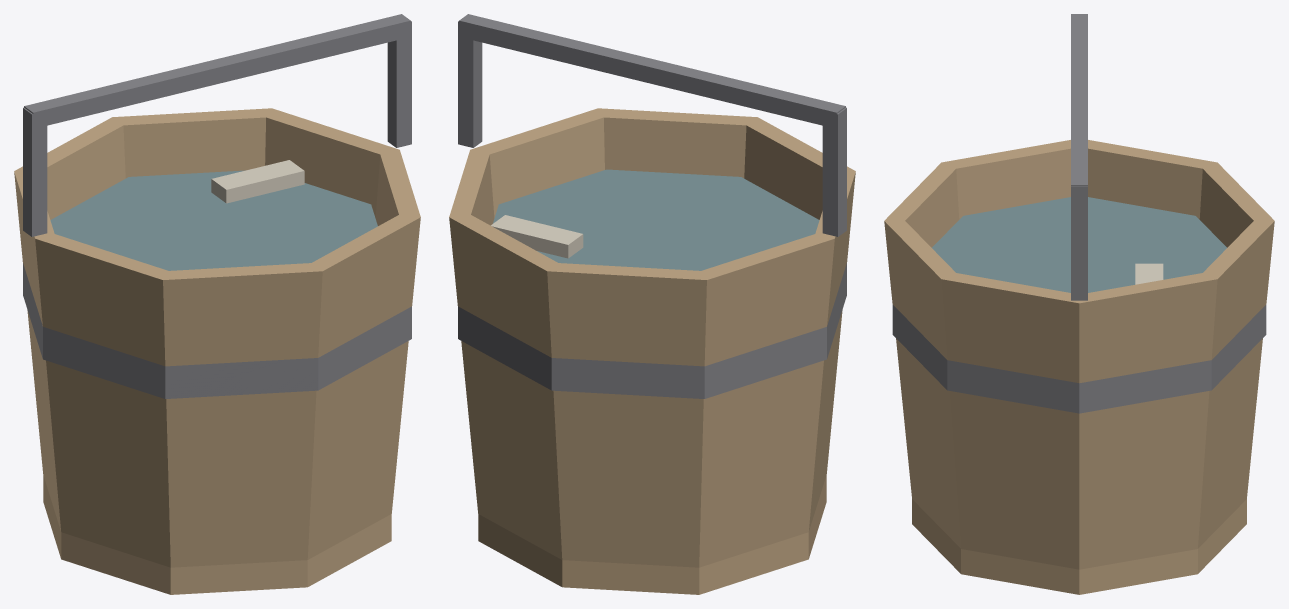
The model's file is prop-bait-bucket.fbx.
3 views of the same model, side by side, from view 1: azimuth 30°, elevation 25°; view 2: azimuth 150°, elevation 25°; view 3: azimuth 270°, elevation 25° (orthographic). The views are drawn at different scales.
Parts seen in each view (by area): view 1: prop-bait-bucket; view 2: prop-bait-bucket; view 3: prop-bait-bucket.
Part boxes in pixels (<box>): prop-bait-bucket: <box>14,14,420,594</box>; prop-bait-bucket: <box>449,14,855,594</box>; prop-bait-bucket: <box>884,14,1274,594</box>.
Bounding box in the file's own units: 29.2 × 33.6 × 28.
